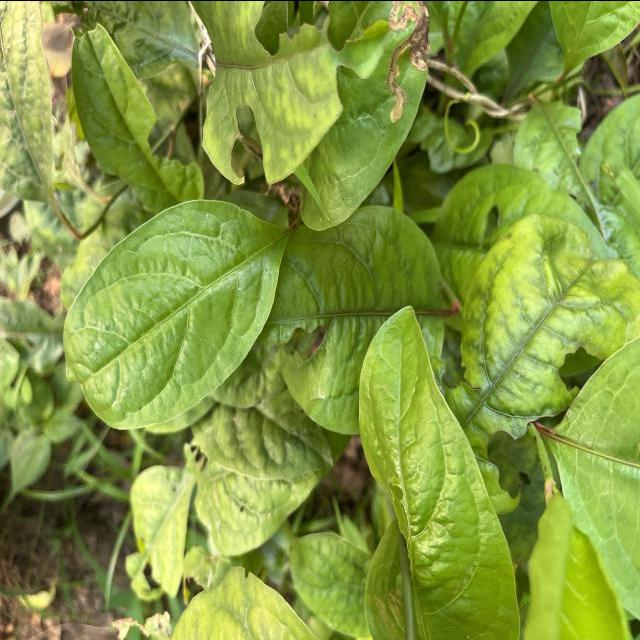Plumbago indica: (60, 193, 287, 434)
